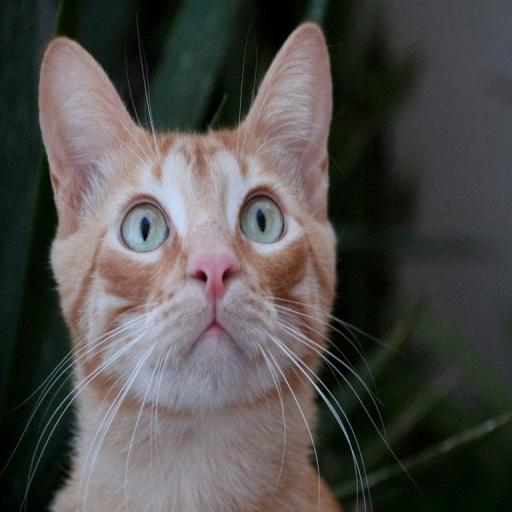cat: (38, 21, 342, 512)
